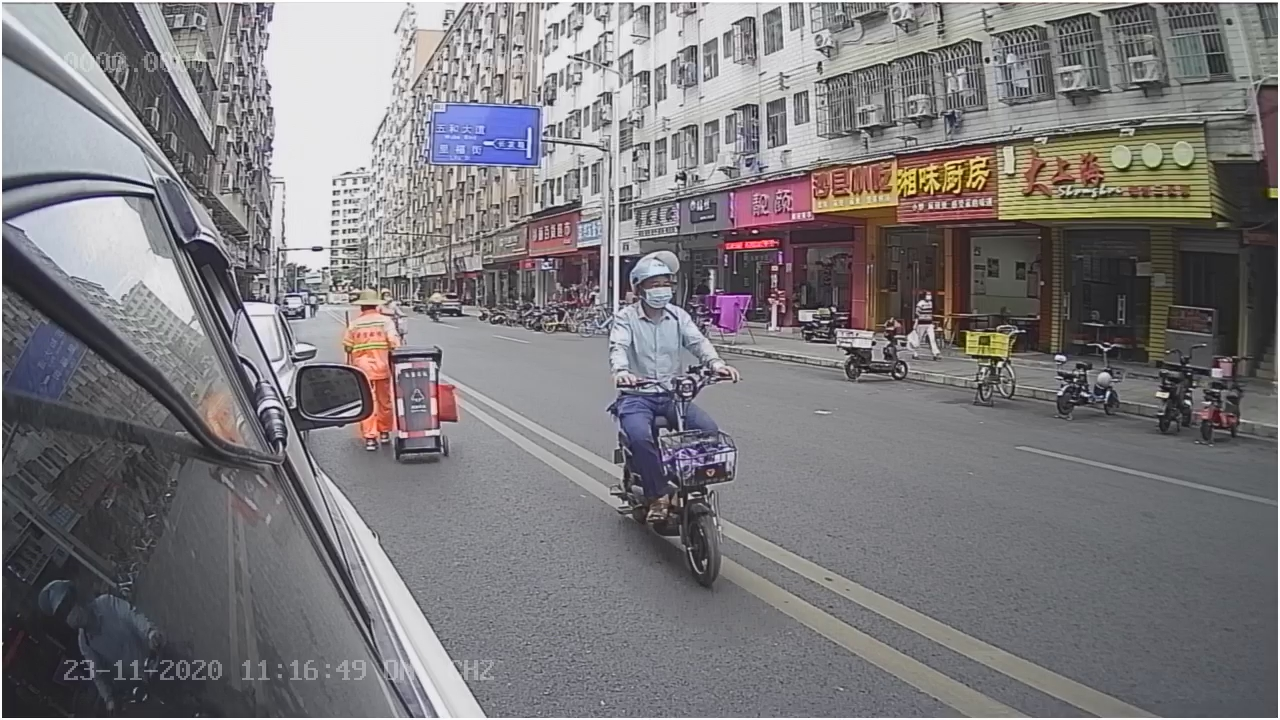person: (599, 247, 741, 376)
